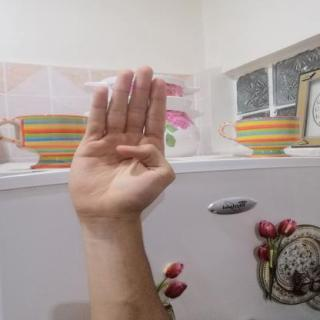KAAF: (54, 57, 184, 229)
